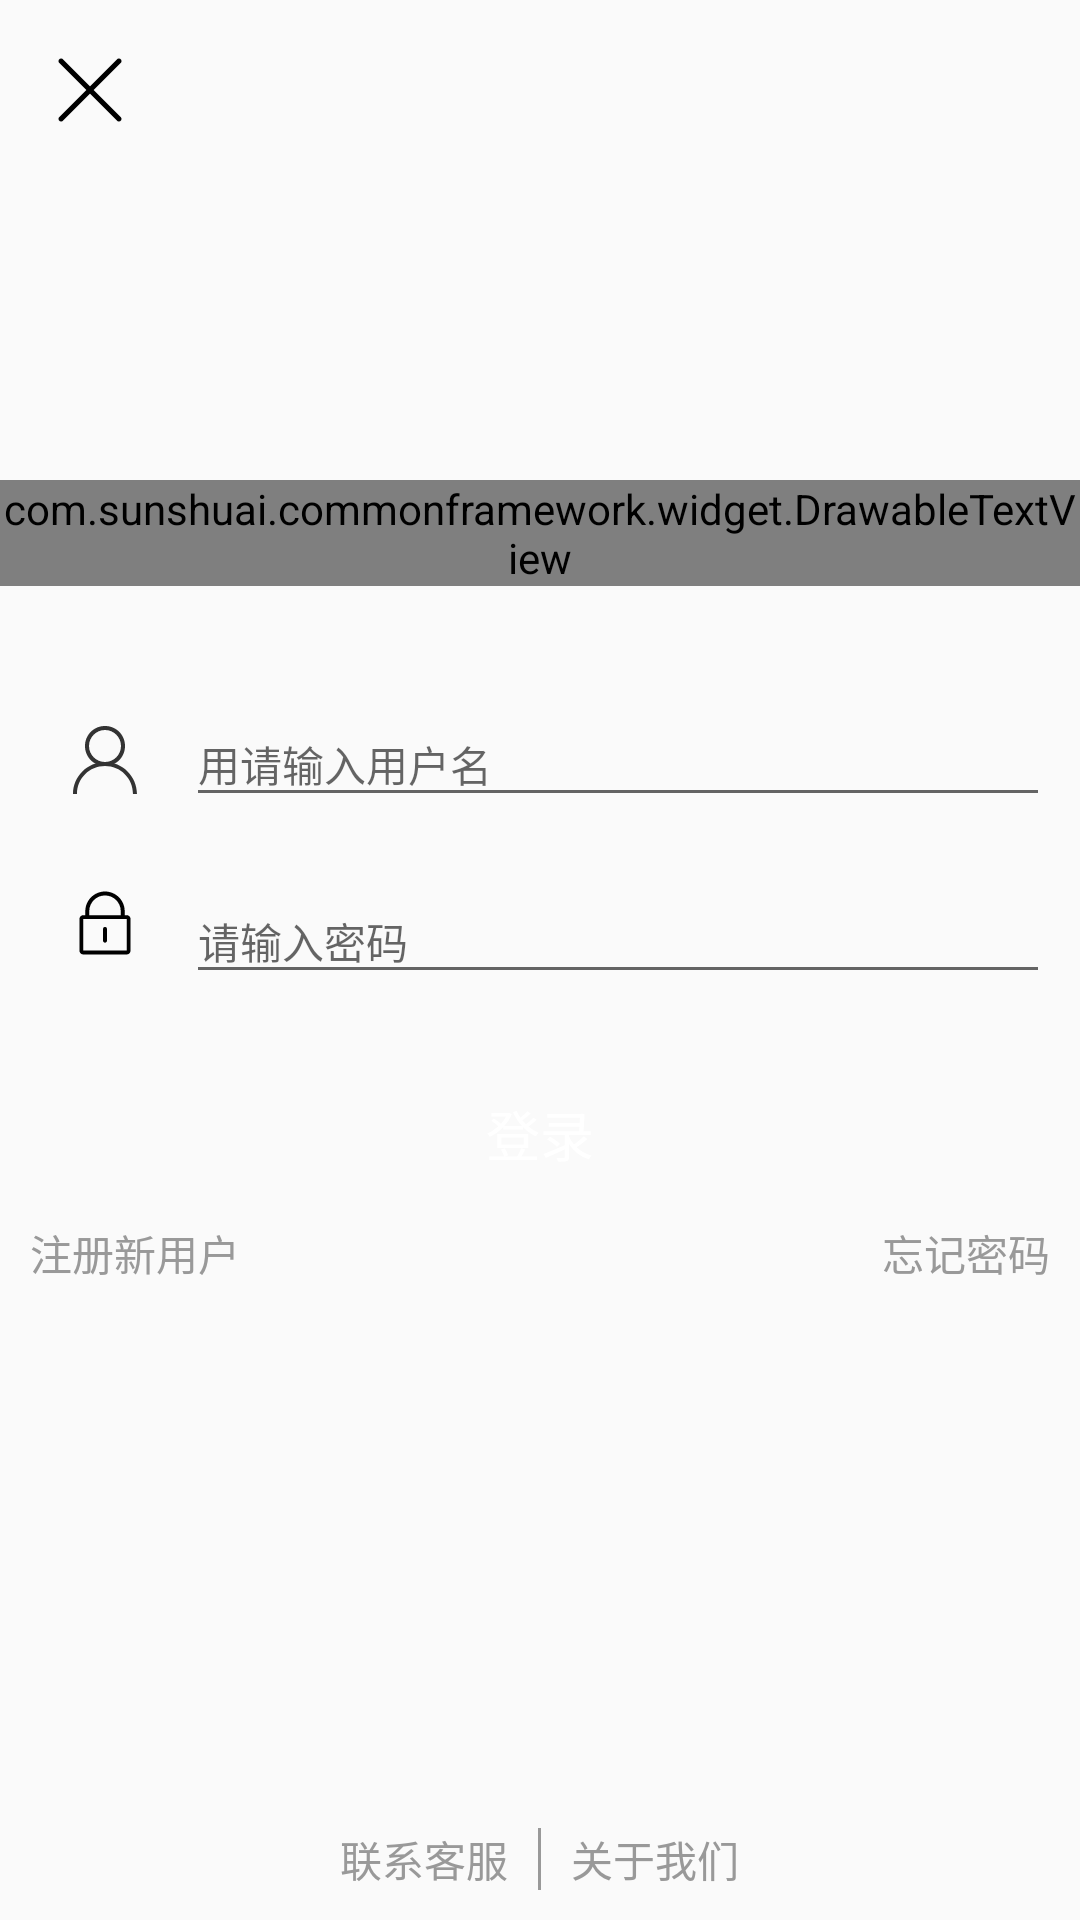

Icons on this 1080×1920 Android screen, each with its box as [left=x1, top=y1, right=x2, bottom=y2]:
close: [left=58, top=58, right=122, bottom=122]
password: [left=79, top=891, right=131, bottom=955]
user: [left=73, top=726, right=137, bottom=794]
